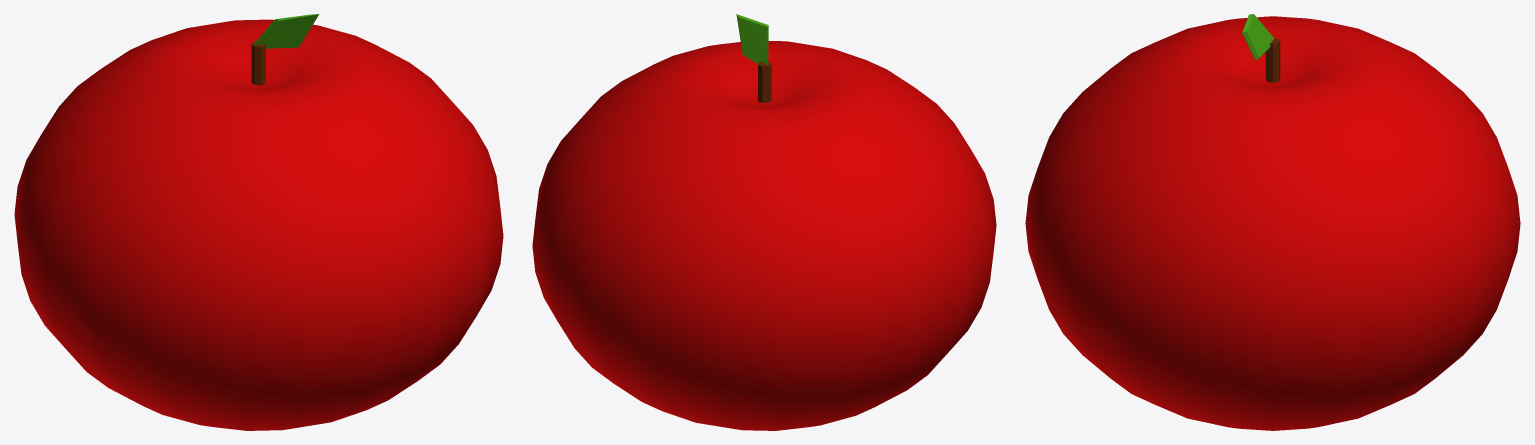
The model's file is apple.fbx.
The picture shows the model from 3 angles, left to right: view 1: azimuth 30°, elevation 25°; view 2: azimuth 150°, elevation 25°; view 3: azimuth 270°, elevation 25°; orthographic projection. The views are drawn at different scales.
Visible parts, largest first — view 1: pSphere1, pCube1, pCylinder1; view 2: pSphere1, pCube1, pCylinder1; view 3: pSphere1, pCube1, pCylinder1.
Part boxes in pixels (bbox=[...]): pSphere1: bbox=[14, 19, 503, 430]; pCube1: bbox=[253, 14, 319, 48]; pCylinder1: bbox=[251, 41, 265, 85]; pSphere1: bbox=[532, 41, 996, 430]; pCube1: bbox=[736, 14, 768, 64]; pCylinder1: bbox=[758, 61, 771, 102]; pSphere1: bbox=[1025, 16, 1520, 430]; pCube1: bbox=[1242, 14, 1274, 60]; pCylinder1: bbox=[1265, 38, 1280, 82].
Size of the model in its own units: 2.46 by 2.1 by 2.46.
